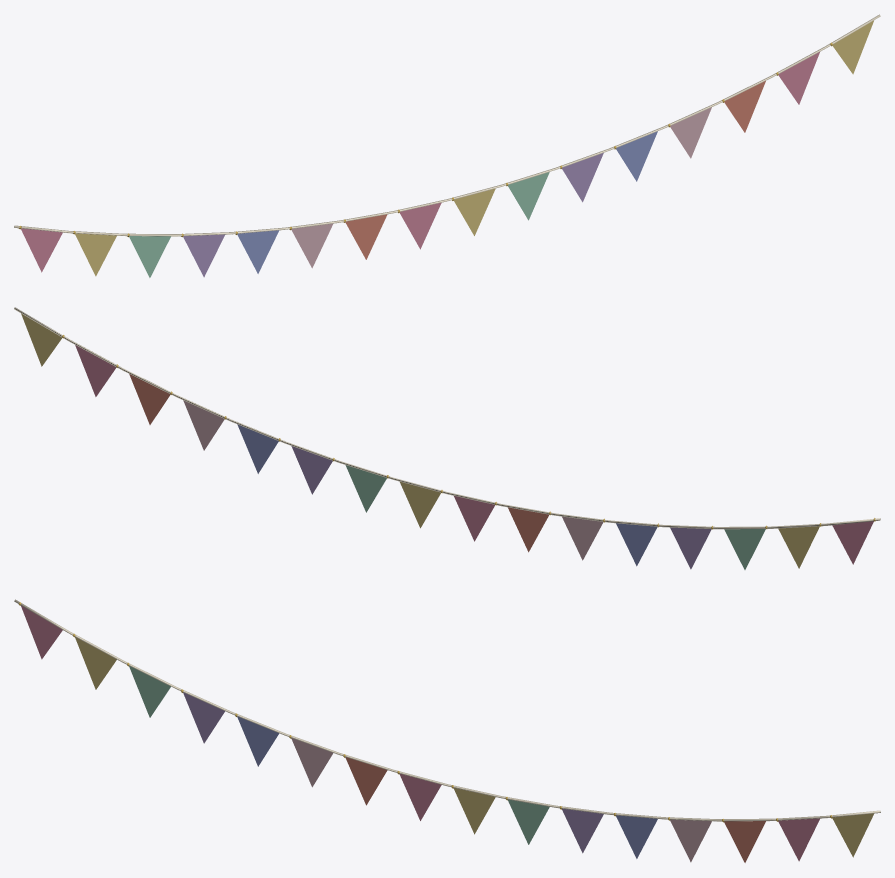
File: fae_bunting.gltf
The picture shows the model from 3 angles, top to bottom: view 1: azimuth 30°, elevation 25°; view 2: azimuth 150°, elevation 25°; view 3: azimuth 330°, elevation 25°; orthographic projection.
Parts seen in each view (by area): view 1: fae_bunting; view 2: fae_bunting; view 3: fae_bunting.
Part boxes in pixels (x1=…): fae_bunting: x1=14, y1=14, x2=880, y2=277; fae_bunting: x1=14, y1=307, x2=880, y2=569; fae_bunting: x1=14, y1=599, x2=880, y2=862.
Size of what is drawn, in the model's own units: 8.01 by 1.09 by 0.036.
